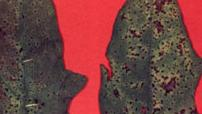Tomato Septoria leaf spot: (98, 0, 202, 114), (0, 0, 89, 114)
